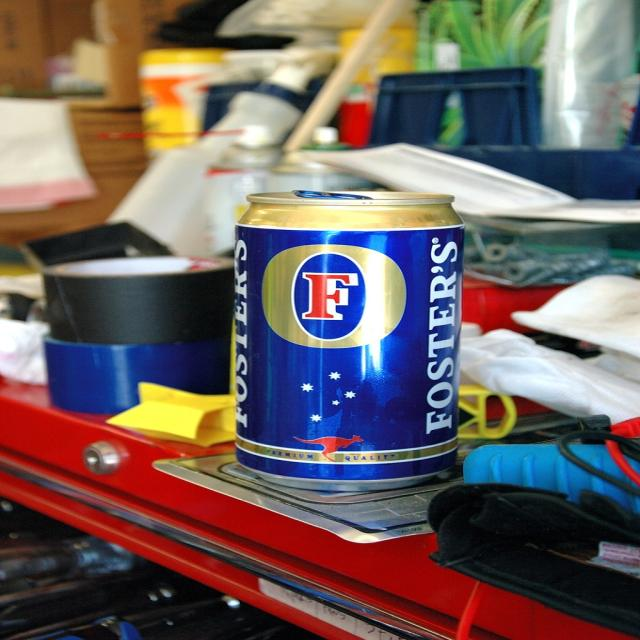fosters: (258, 243, 412, 351)
